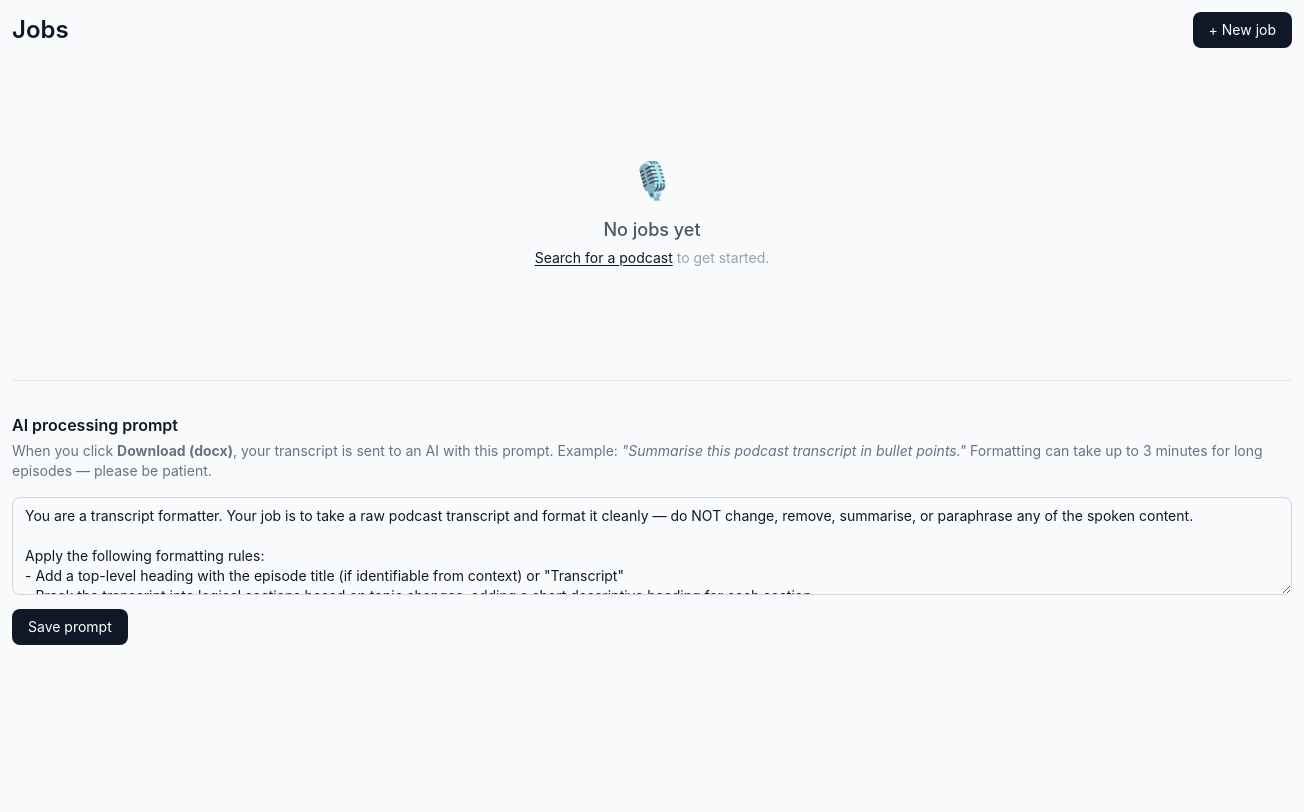
DashboardPage › shows "Saved ✓" after a successful save
Click the button "Save prompt" at (70, 627), box [12,609,128,645]
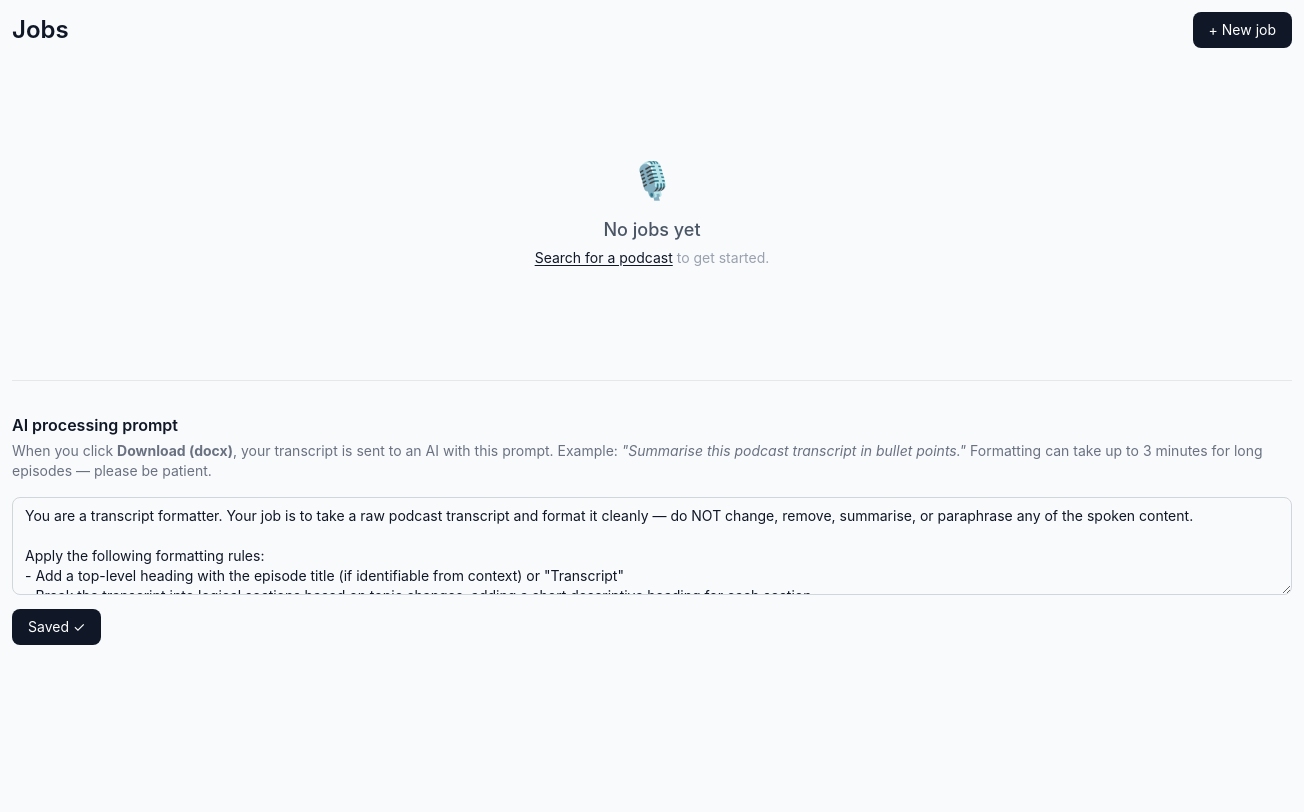
Result: the button "Saved ✓" is shown at [12,609,101,645]
